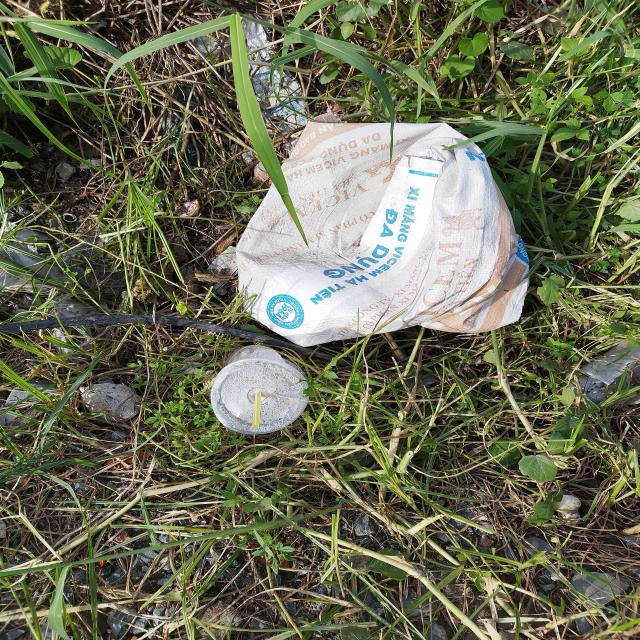bag: (234, 120, 530, 348)
drinking straw: (252, 391, 262, 429)
plastic glass: (210, 344, 310, 436), (579, 340, 640, 385)
